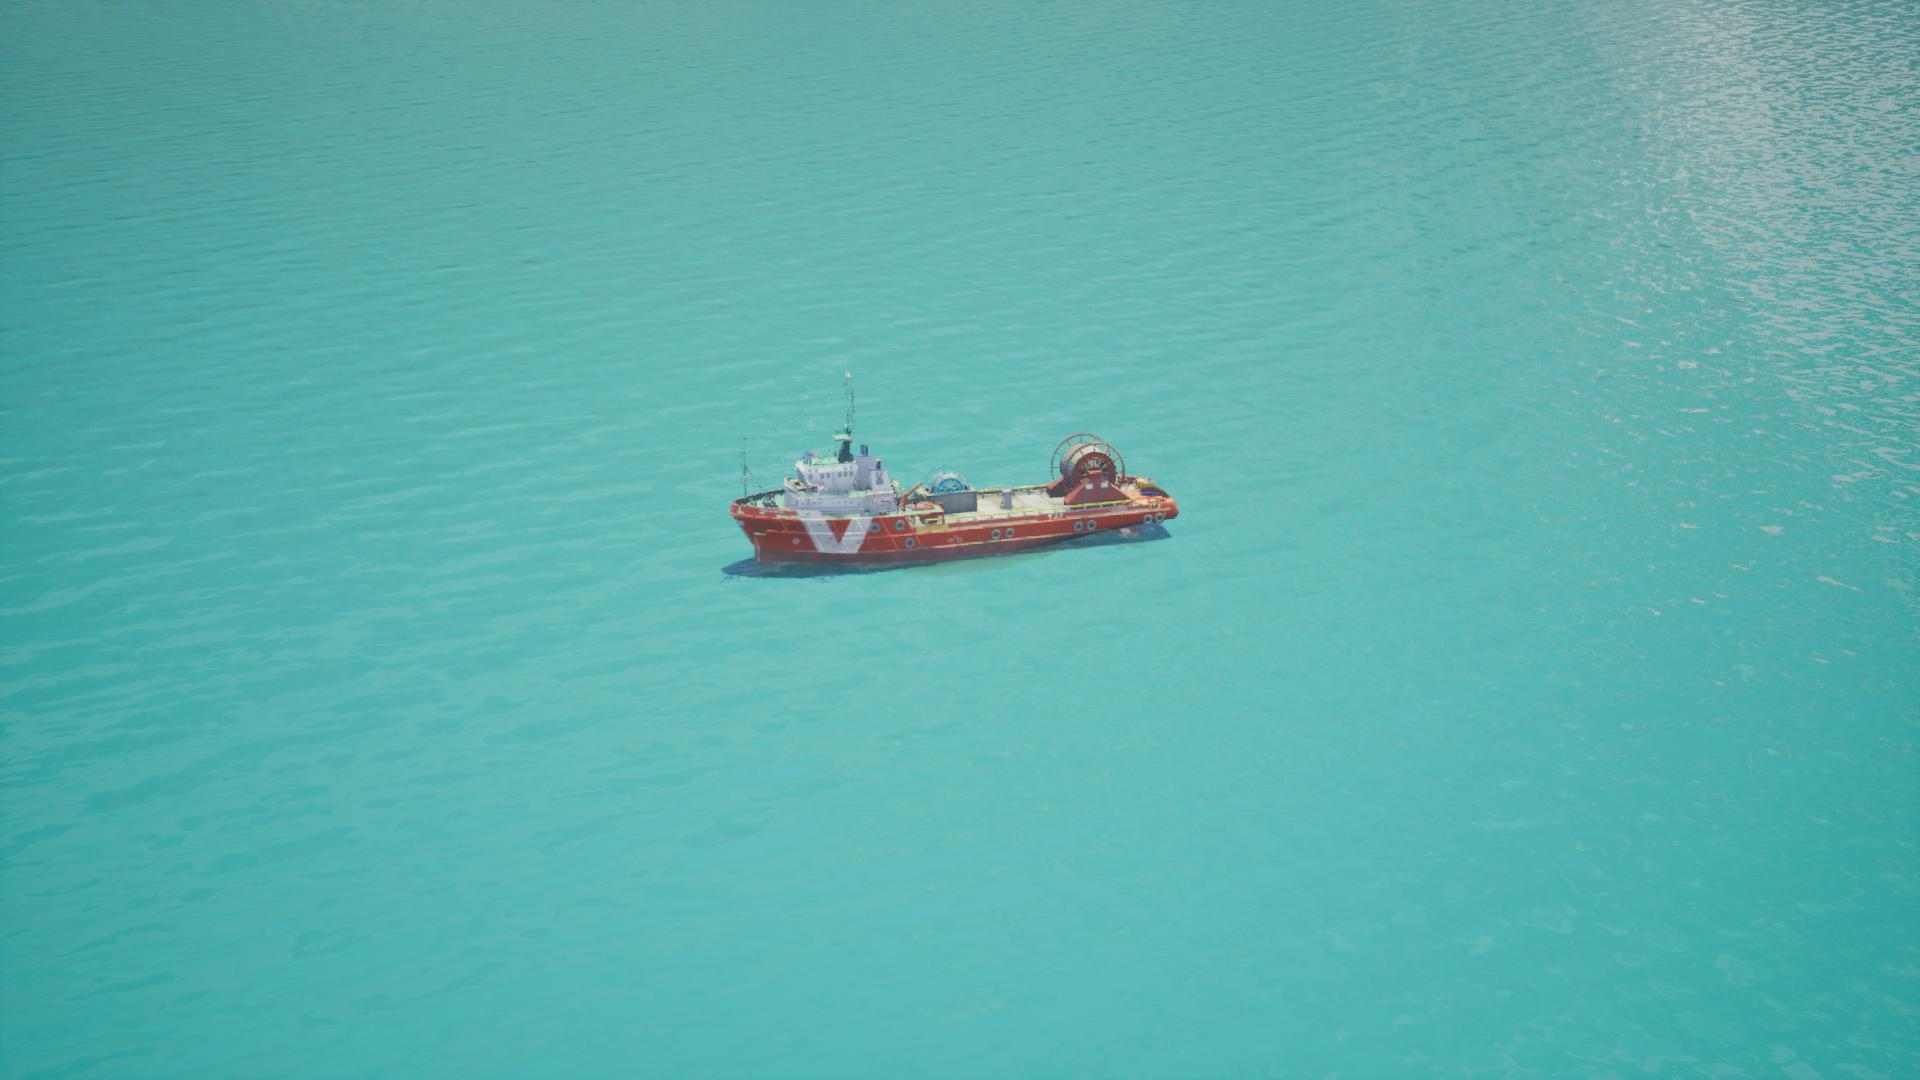Tug Boat: (721, 371, 1175, 583)
